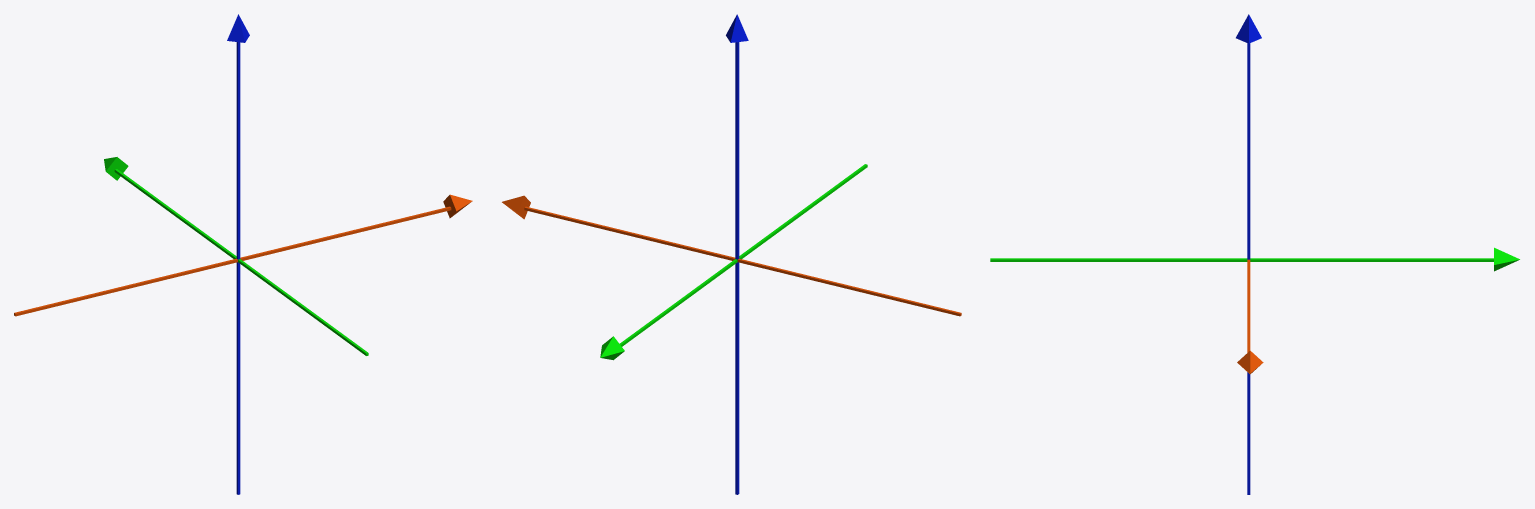
The model's file is SM_Axes.glb.
3 views of the same model, side by side, from view 1: azimuth 30°, elevation 25°; view 2: azimuth 150°, elevation 25°; view 3: azimuth 270°, elevation 25° (orthographic).
Visible parts, largest first — view 1: SM_CoordinateDirections; view 2: SM_CoordinateDirections; view 3: SM_CoordinateDirections.
Part boxes in pixels (box(x1,y1,x2,y2)): SM_CoordinateDirections: box(14, 14, 472, 494); SM_CoordinateDirections: box(502, 14, 961, 494); SM_CoordinateDirections: box(990, 14, 1519, 494).
Size of the model in its own units: 3.75 by 3.75 by 3.75.
